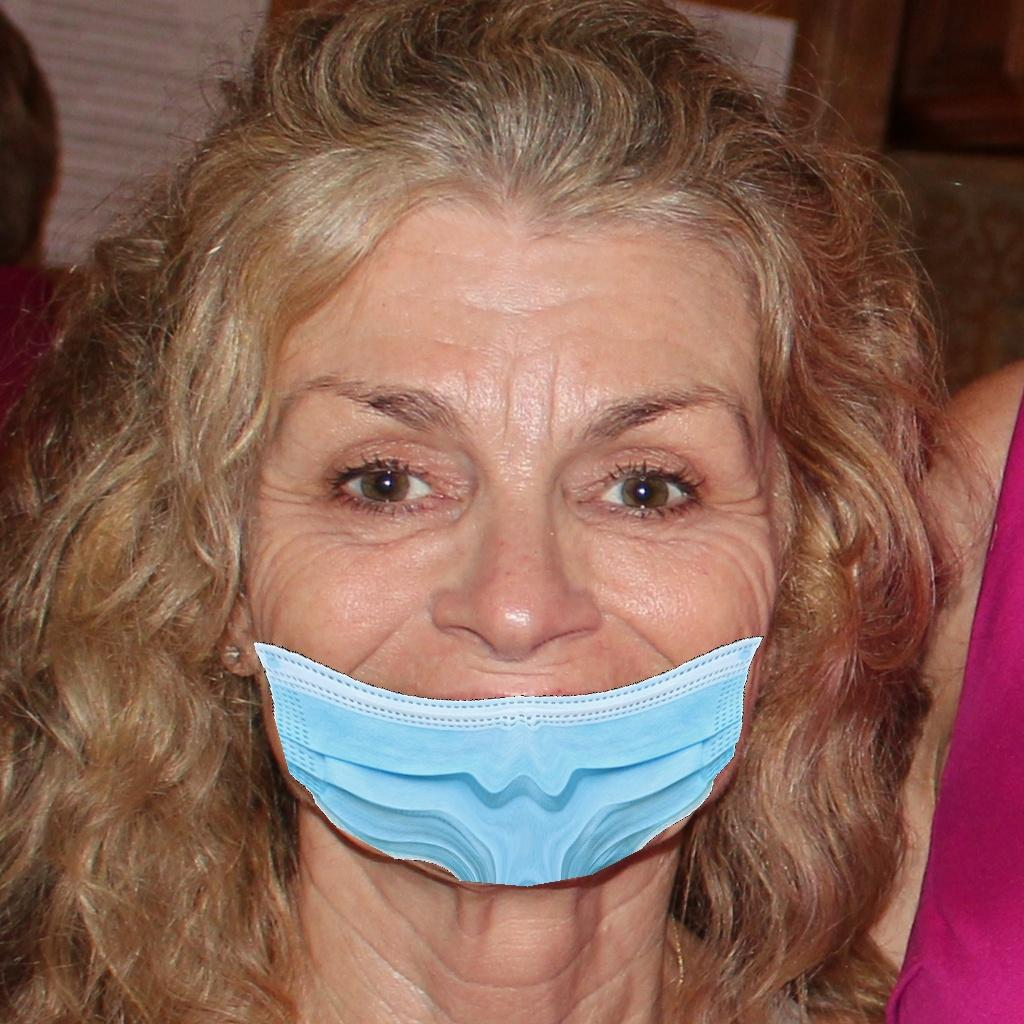Máscara Incorreta: (225, 300, 782, 841)
